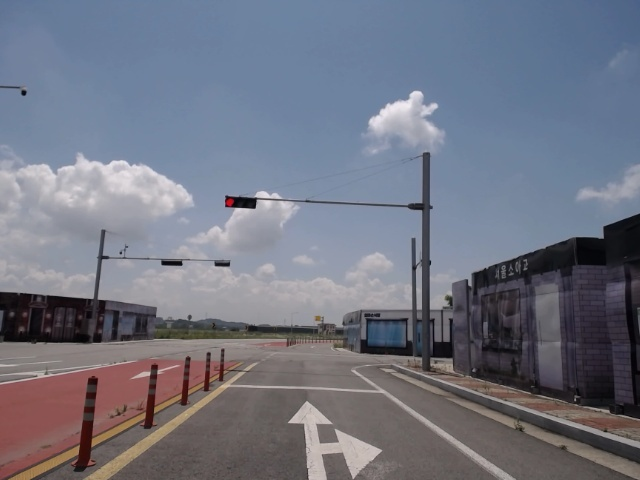red_3: (222, 197, 256, 208)
